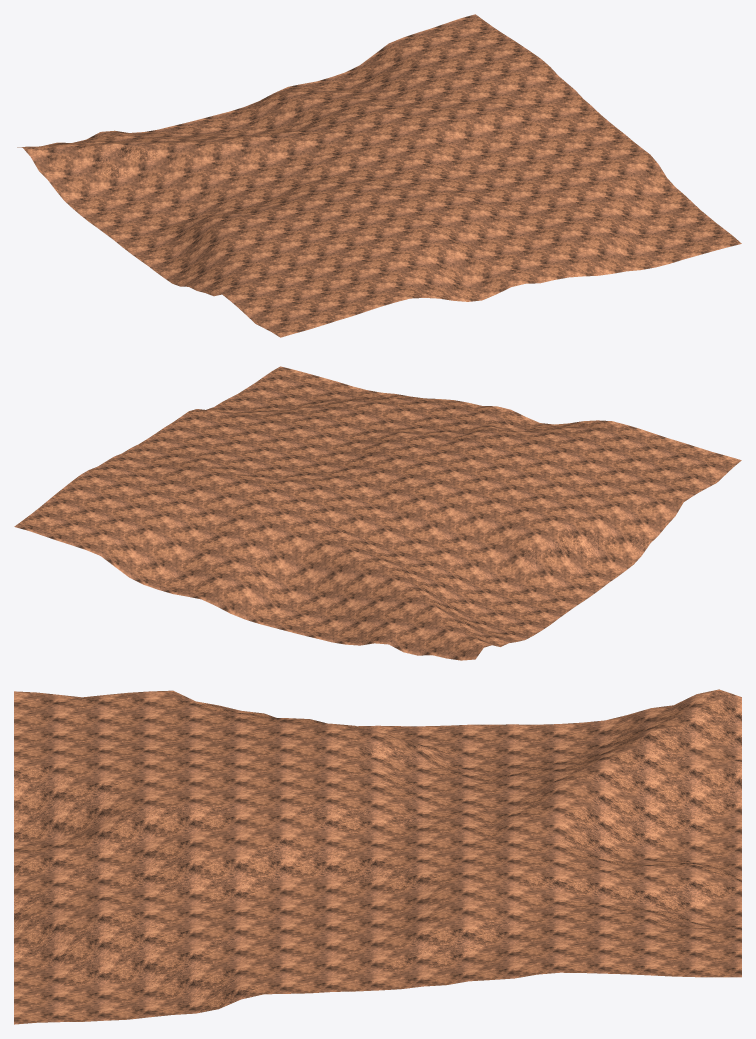
Rendered from terrain_02_19.dae.
3 renders of one model, top to bottom at view 1: azimuth 30°, elevation 25°; view 2: azimuth 150°, elevation 25°; view 3: azimuth 270°, elevation 25°, orthographic. The views are drawn at different scales.
Parts seen in each view (by area): view 1: terrain_02_19-node; view 2: terrain_02_19-node; view 3: terrain_02_19-node.
Boxes of the visible parts, left/top/right/bottom form: terrain_02_19-node: left=17, top=14, right=741, bottom=337; terrain_02_19-node: left=14, top=366, right=741, bottom=660; terrain_02_19-node: left=14, top=689, right=741, bottom=1024.
Size of the model in its own units: 128 by 128 by 11.86.
1 material, 1 textured.
